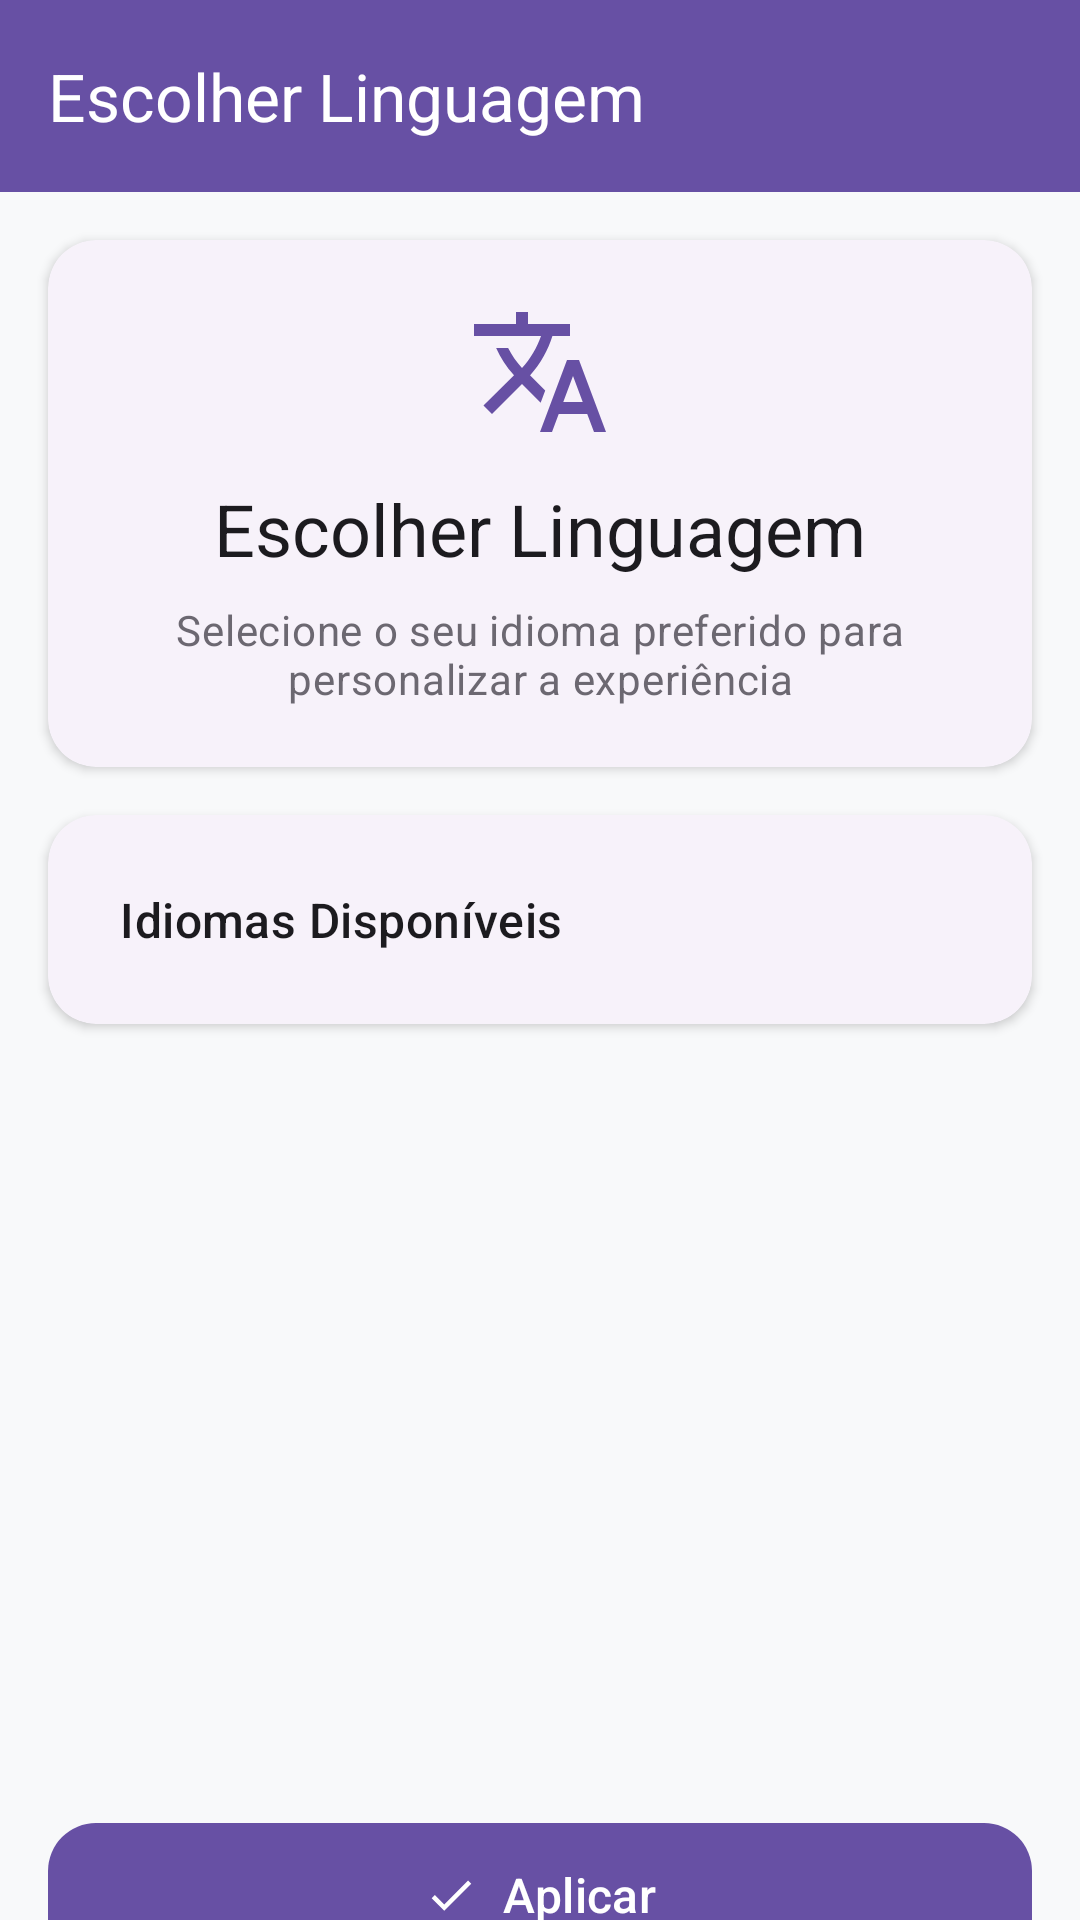

Screen size 1080 × 1920. Icon name, then its box in pixels as (x1, y1, x2, y2):
language: (474, 312, 606, 432)
